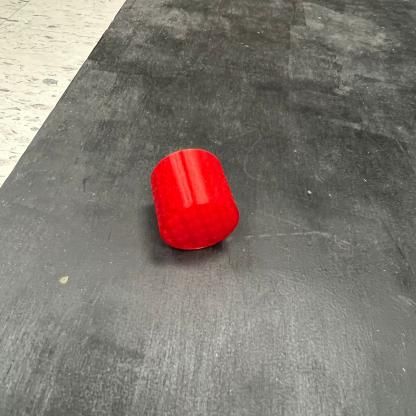red cylinder: (149, 146, 242, 254)
